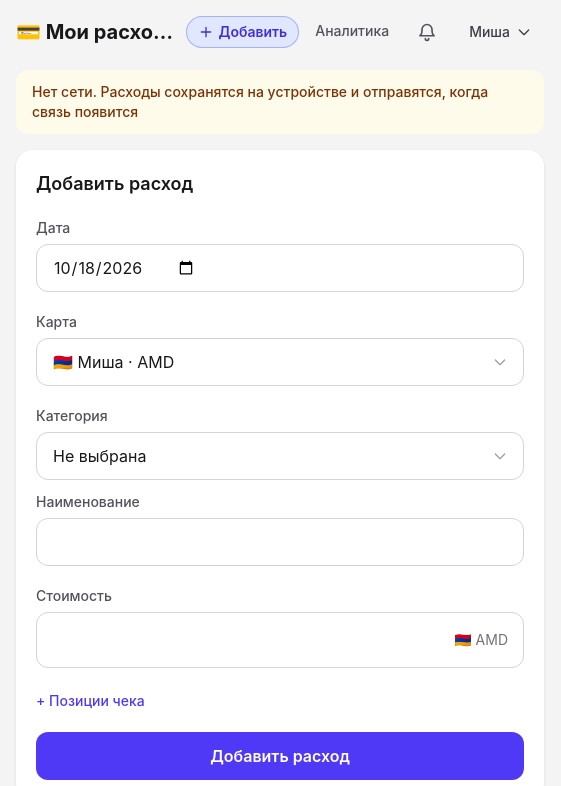
Test: форма без сети › нет сети: расход кладётся в очередь, запрос не уходит, форма очищена, показано сообщение
Expected: the button "Добавить расход" is shown, [36, 732, 524, 780]
Select "кафе" in the dropdown labelled "Категория" at x=280, y=456, box [36, 432, 524, 480]
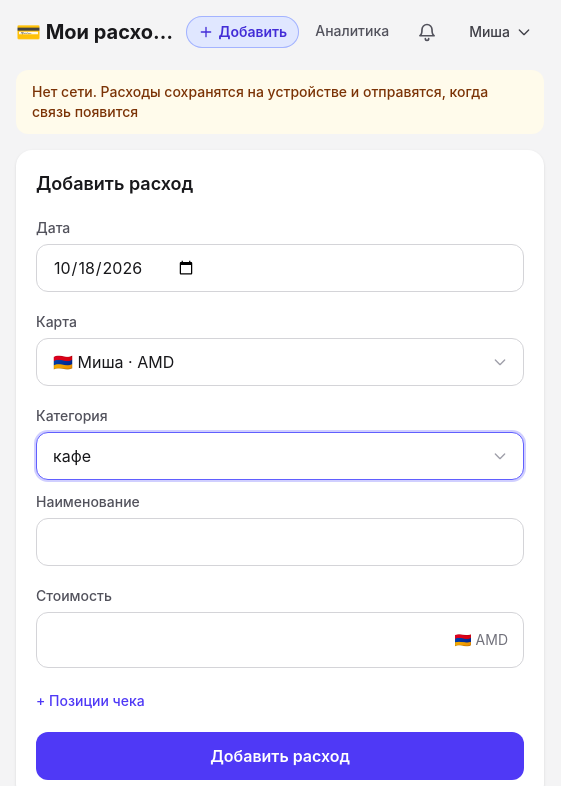
Type "Кофе" into the field labelled "Наименование".
click(280, 542); type("Кофе")  # box [36, 518, 524, 566]
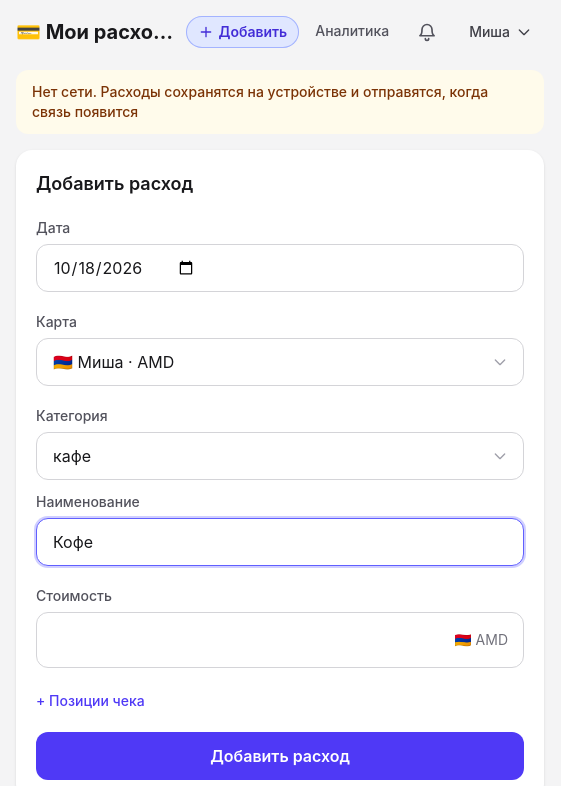
Type "1000" into the field labelled "Стоимость".
click(280, 640); type("1000")  # box [36, 612, 524, 668]
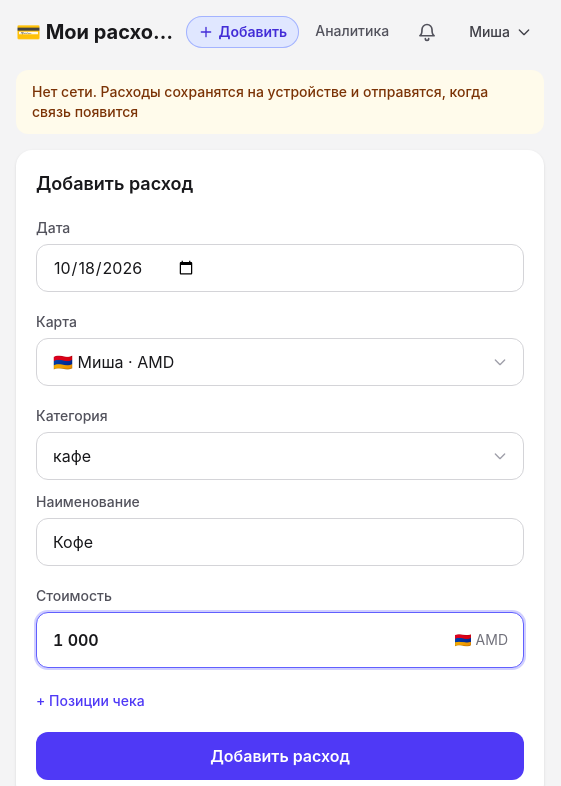
Click the button "Добавить расход".
click(280, 756)  # box [36, 732, 524, 780]
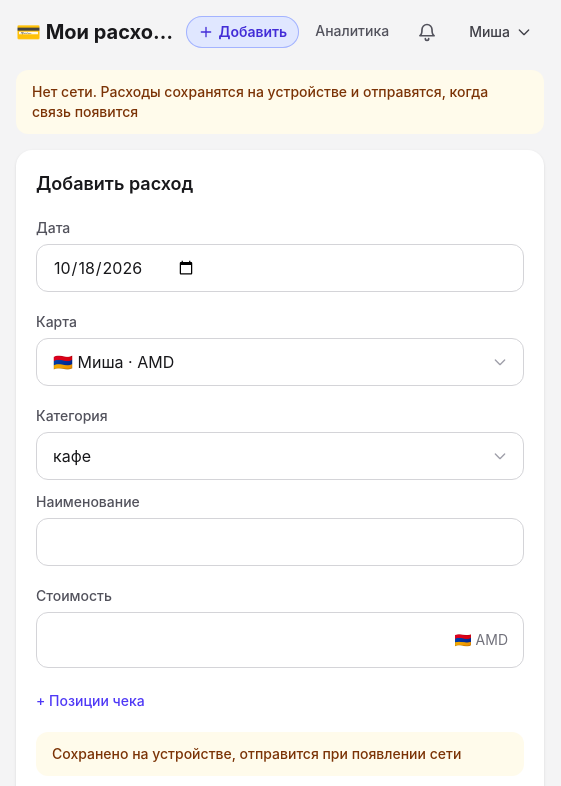
Expected: the text "Сохранено на устройстве, отправится при появлении сети" is shown, [36, 732, 524, 776]
Expected: the field labelled "Наименование" is empty, [36, 518, 524, 566]
Expected: the field labelled "Стоимость" is empty, [36, 612, 524, 668]
